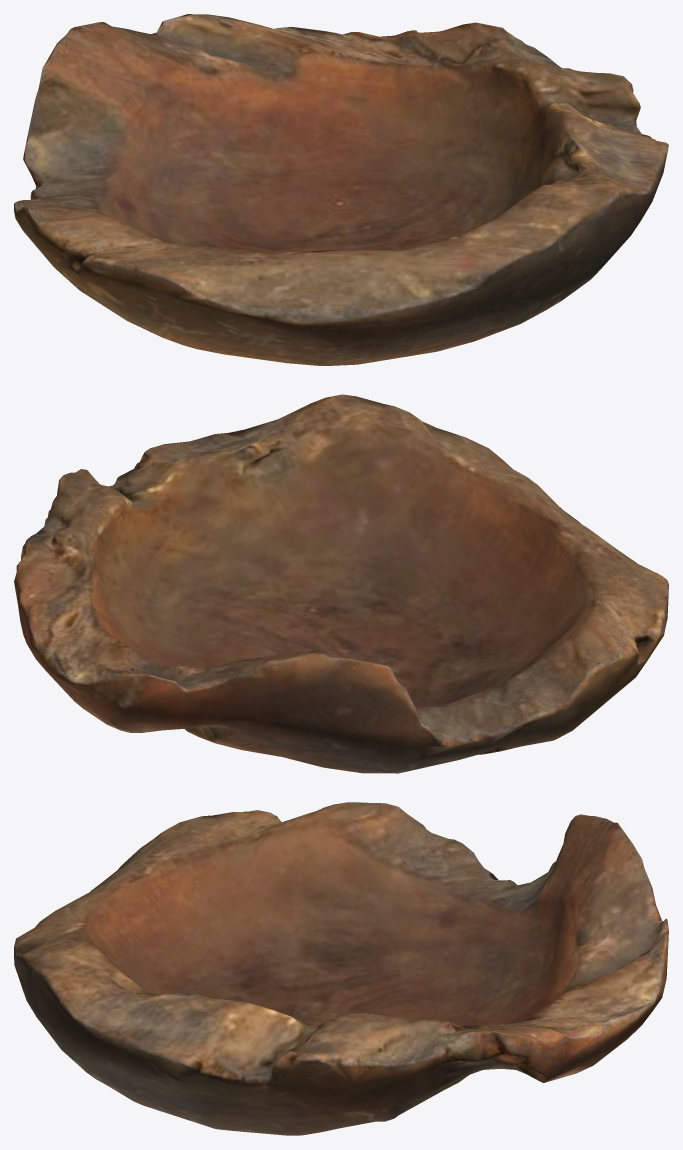
The model's file is bowl.glb.
3 views of the same model, one above another, from view 1: azimuth 30°, elevation 25°; view 2: azimuth 150°, elevation 25°; view 3: azimuth 270°, elevation 25° (orthographic). The views are drawn at different scales.
Visible parts, largest first — view 1: bowl; view 2: bowl; view 3: bowl.
Boxes of the visible parts, bbox=[...] form: bowl: bbox=[14, 14, 668, 365]; bowl: bbox=[14, 394, 668, 773]; bowl: bbox=[14, 802, 668, 1135].
Size of the model in its own units: 0.3127 by 0.0935 by 0.3088.
1 material, 1 textured.
